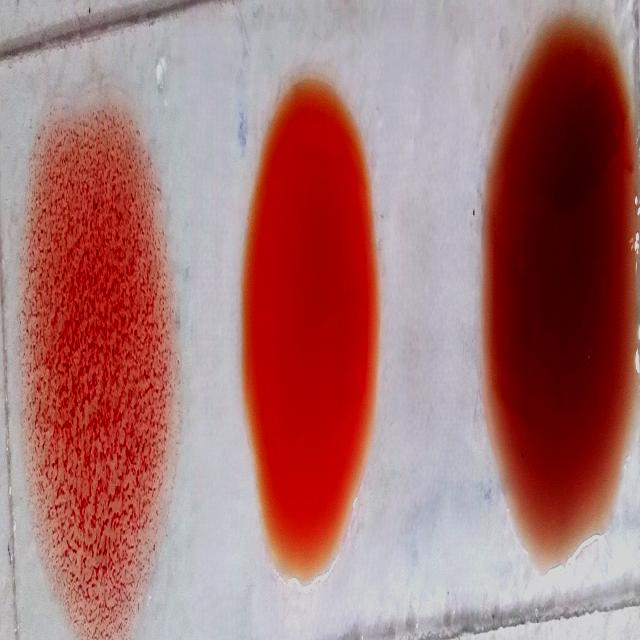D: (27, 97, 173, 618)
